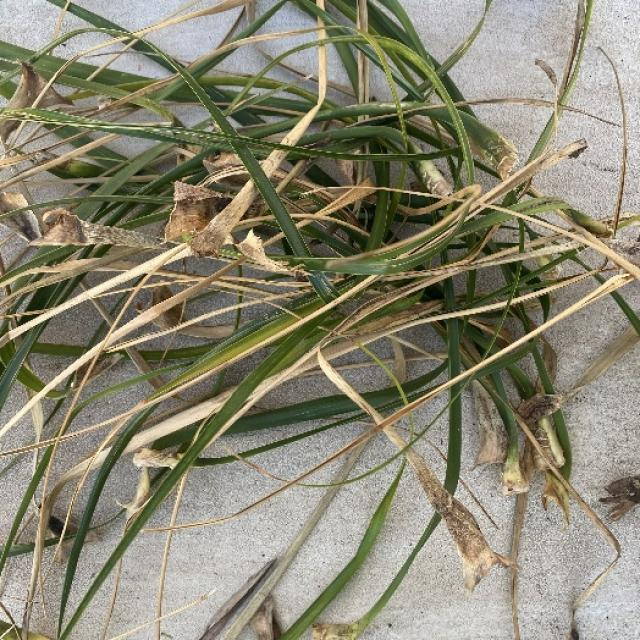organik: (0, 0, 582, 607)
